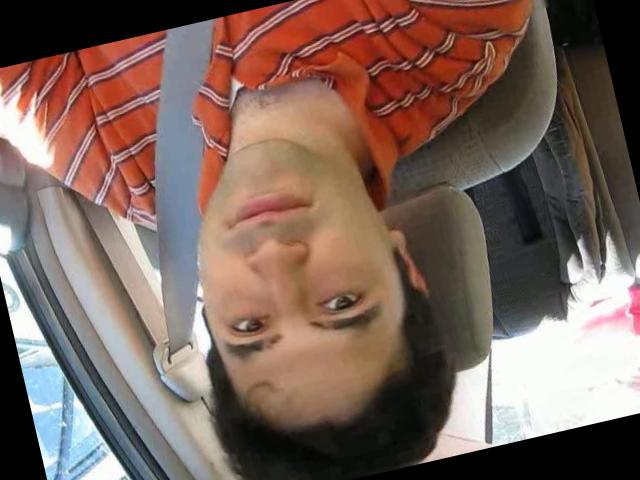eye_open: (314, 278, 372, 320), (221, 302, 276, 344)
face: (168, 114, 414, 390)
